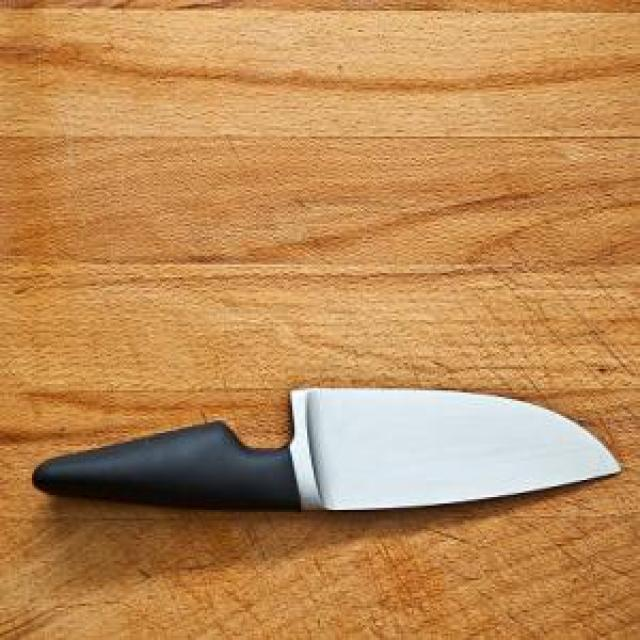knife: (22, 376, 628, 554)
